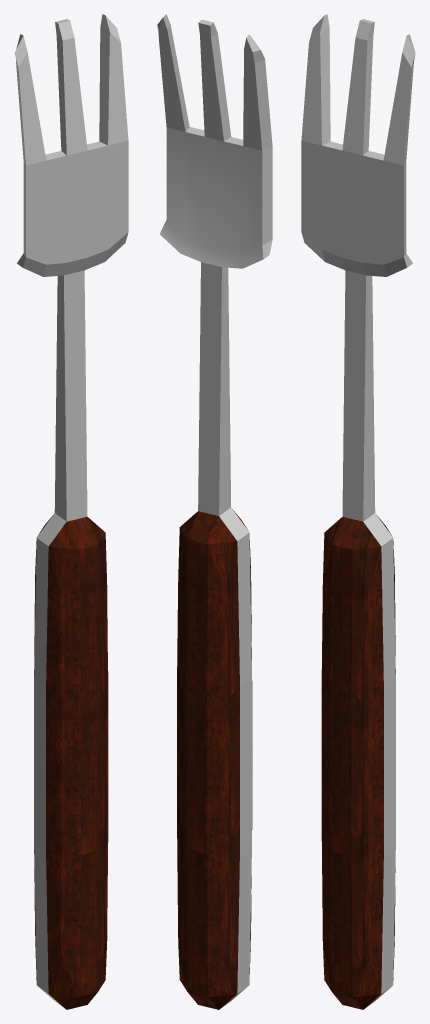
File: fork.fbx
3 renders of one model, left to right at view 1: azimuth 30°, elevation 25°; view 2: azimuth 150°, elevation 25°; view 3: azimuth 330°, elevation 25°, orthographic.
Parts seen in each view (by area): view 1: Cube; view 2: Cube; view 3: Cube.
Part boxes in pixels (x1,y1,x2,y2): Cube: [14, 14, 128, 1009]; Cube: [157, 14, 272, 1009]; Cube: [301, 14, 415, 1009].
Bounding box in the file's own units: 0.033 × 0.2999 × 0.02.
